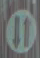Two way: (3, 4, 39, 57)
